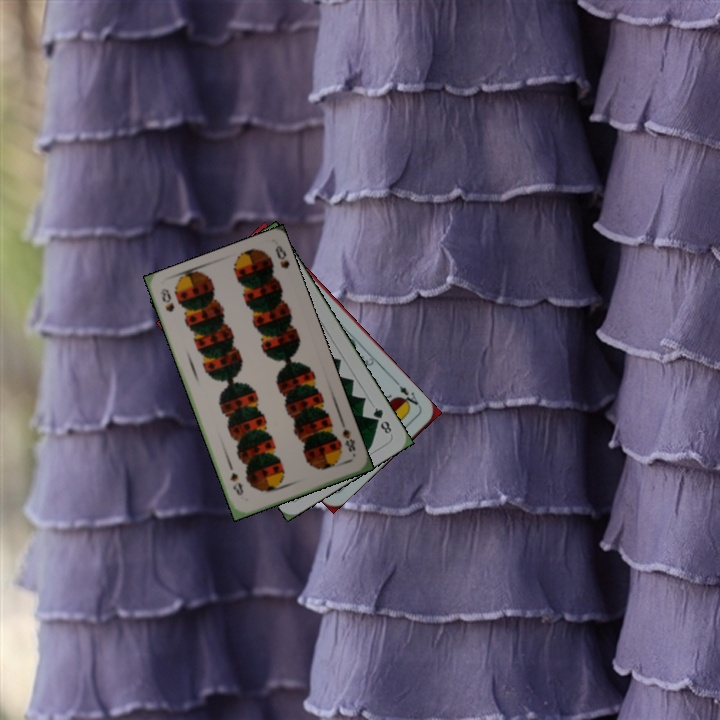EA: (395, 382, 421, 411)
G8: (369, 403, 394, 437)
S8: (337, 419, 358, 455), (156, 284, 177, 315)
